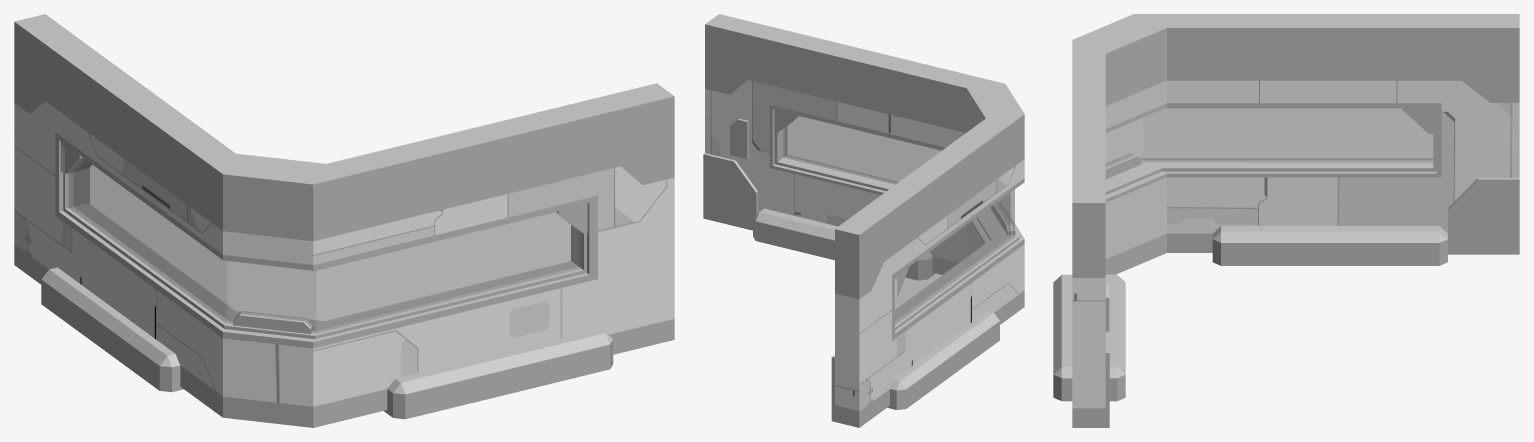
The model's file is SM_Wall_6x6_Corner_Window_A.fbx.
3 renders of one model, left to right at view 1: azimuth 30°, elevation 25°; view 2: azimuth 150°, elevation 25°; view 3: azimuth 270°, elevation 25°, orthographic. The views are drawn at different scales.
Parts seen in each view (by area): view 1: SM_Wall_6x6_Corner_Window_A; view 2: SM_Wall_6x6_Corner_Window_A; view 3: SM_Wall_6x6_Corner_Window_A.
Boxes of the visible parts, bbox=[...] form: SM_Wall_6x6_Corner_Window_A: bbox=[14, 14, 674, 427]; SM_Wall_6x6_Corner_Window_A: bbox=[703, 14, 1024, 427]; SM_Wall_6x6_Corner_Window_A: bbox=[1053, 14, 1519, 427].
Size of the model in its own units: 561 by 305 by 563.
